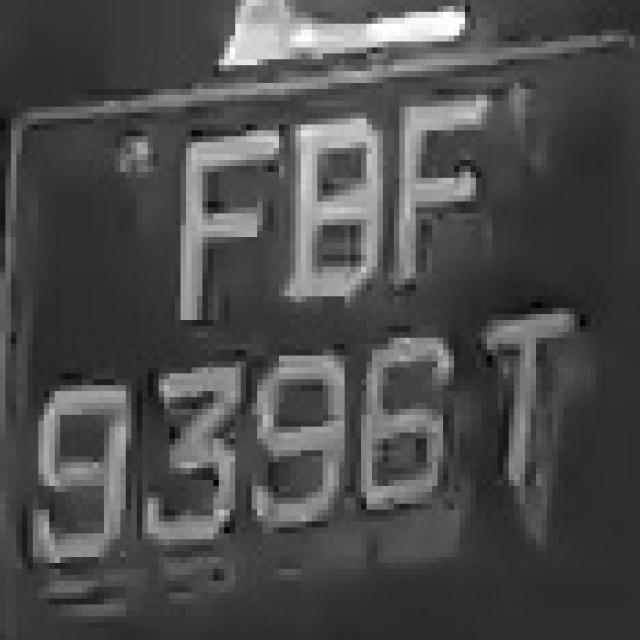3: (120, 356, 262, 551)
6: (350, 308, 454, 522)
9: (22, 355, 142, 575), (257, 326, 350, 533)
B: (284, 95, 394, 314)
F: (372, 77, 503, 302), (148, 106, 268, 338)
T: (454, 302, 585, 510)
